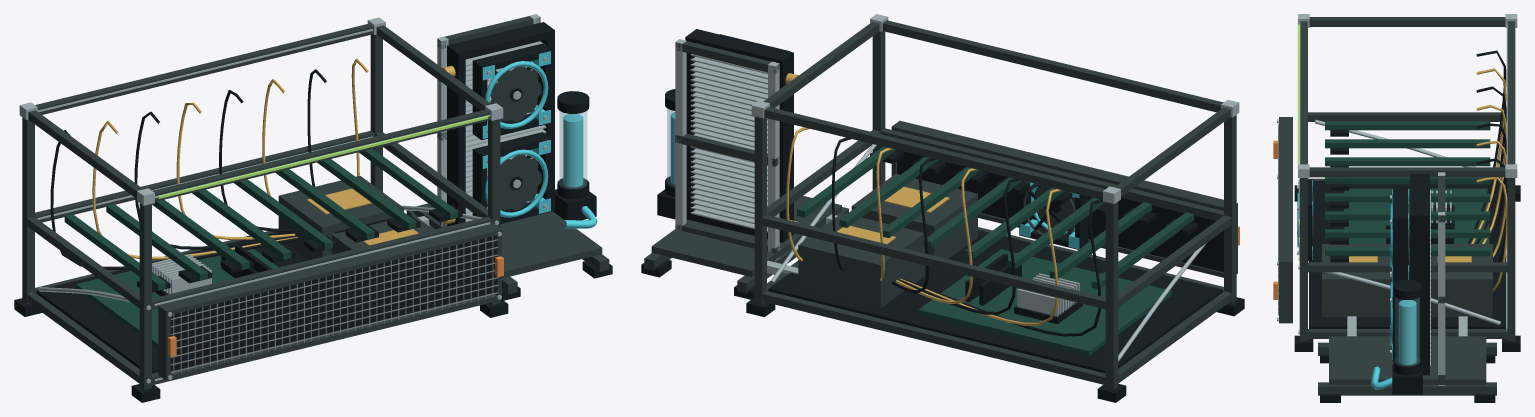
File: rig-runtime-8-carbon-liquid.glb
3 renders of one model, left to right at view 1: azimuth 30°, elevation 25°; view 2: azimuth 150°, elevation 25°; view 3: azimuth 270°, elevation 25°, orthographic. The views are drawn at different scales.
Parts seen in each view (by area): view 1: Anodized graphite (×5), Rubber and ABS (×5), filter-carbon, Circuit board, Filter fibres, Brushed aluminium (×2), Coolant blue (×3), cooling-liquid, rig-runtime-8-carbon-liquid, Contacts, slot-cable-1, slot-cable-2 (+3 smaller); view 2: Anodized graphite (×3), Rubber and ABS (×4), Circuit board, Brushed aluminium (×2), filter-carbon, Contacts, slot-cable-1, slot-cable-2, slot-cable-3, slot-cable-4, cooling-liquid, slot-cable-5 (+1 smaller); view 3: Anodized graphite (×3), Rubber and ABS (×6), Circuit board, Brushed aluminium (×2), Coolant blue (×2), cooling-liquid, slot-cable-1, rig-runtime-8-carbon-liquid, slot-cable-2, slot-cable-3, Contacts, slot-cable-8 (+4 smaller).
Part boxes in pixels (box(x1,y1,x2,y2)): Anodized graphite (×5): box(22, 16, 609, 389); Rubber and ABS (×5): box(14, 22, 612, 402); filter-carbon: box(170, 236, 493, 371); Circuit board: box(64, 149, 457, 348); Filter fibres: box(170, 236, 498, 374); Brushed aluminium (×2): box(19, 14, 546, 383); Coolant blue (×3): box(482, 51, 597, 228); cooling-liquid: box(559, 111, 586, 188); rig-runtime-8-carbon-liquid: box(158, 115, 488, 198); Contacts: box(307, 188, 418, 245); slot-cable-1: box(50, 130, 299, 269); slot-cable-2: box(92, 120, 297, 259); Anodized graphite (×3): box(644, 20, 1237, 389); Rubber and ABS (×4): box(641, 29, 1244, 402); Circuit board: box(797, 146, 1193, 355); Brushed aluminium (×2): box(675, 14, 1239, 361); filter-carbon: box(897, 150, 1223, 272); Contacts: box(836, 186, 949, 244); slot-cable-1: box(901, 199, 1102, 336); slot-cable-2: box(900, 189, 1061, 325); slot-cable-3: box(898, 178, 1019, 314); slot-cable-4: box(896, 168, 977, 303); cooling-liquid: box(667, 108, 674, 186); slot-cable-5: box(892, 158, 935, 293); Anodized graphite (×3): box(1279, 17, 1515, 395); Rubber and ABS (×6): box(1294, 129, 1520, 402); Circuit board: box(1325, 121, 1490, 262); Brushed aluminium (×2): box(1298, 14, 1517, 385); Coolant blue (×2): box(1371, 189, 1416, 389); cooling-liquid: box(1395, 297, 1419, 365); slot-cable-1: box(1467, 50, 1506, 243); rig-runtime-8-carbon-liquid: box(1297, 24, 1300, 168); slot-cable-2: box(1471, 68, 1506, 243); slot-cable-3: box(1475, 86, 1506, 243); Contacts: box(1349, 256, 1471, 262); slot-cable-8: box(1476, 177, 1507, 290).
Size of the model in its own units: 8.43 by 3.32 by 4.01.
